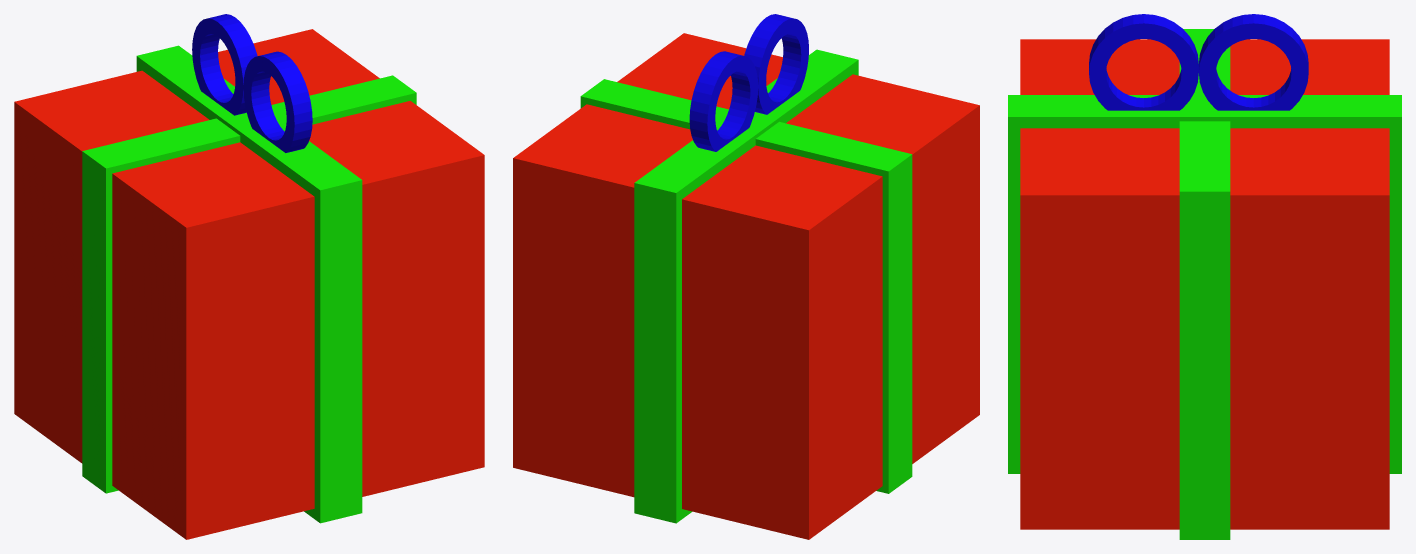
File: present.fbx
The picture shows the model from 3 angles, left to right: view 1: azimuth 30°, elevation 25°; view 2: azimuth 150°, elevation 25°; view 3: azimuth 270°, elevation 25°; orthographic projection. The views are drawn at different scales.
Visible parts, largest first — view 1: Cube, Cube.001, Cube.002, Cylinder, Cylinder.001; view 2: Cube, Cube.001, Cube.002, Cylinder.001, Cylinder; view 3: Cube, Cube.002, Cube.001, Cylinder.001, Cylinder.
Part boxes in pixels (x1=…): Cube: x1=14, y1=29, x2=484, y2=539; Cube.001: x1=136, y1=45, x2=362, y2=523; Cube.002: x1=82, y1=75, x2=416, y2=493; Cylinder: x1=243, y1=51, x2=312, y2=152; Cylinder.001: x1=192, y1=14, x2=257, y2=115; Cube: x1=513, y1=33, x2=979, y2=539; Cube.001: x1=634, y1=49, x2=858, y2=523; Cube.002: x1=580, y1=79, x2=912, y2=493; Cylinder.001: x1=689, y1=51, x2=758, y2=151; Cylinder: x1=744, y1=14, x2=808, y2=114; Cube: x1=1020, y1=39, x2=1389, y2=529; Cube.002: x1=1179, y1=29, x2=1230, y2=539; Cube.001: x1=1008, y1=95, x2=1401, y2=473; Cylinder.001: x1=1199, y1=14, x2=1308, y2=110; Cylinder: x1=1089, y1=14, x2=1198, y2=110.
Bounding box in the file's own units: 104 × 133 × 107.
